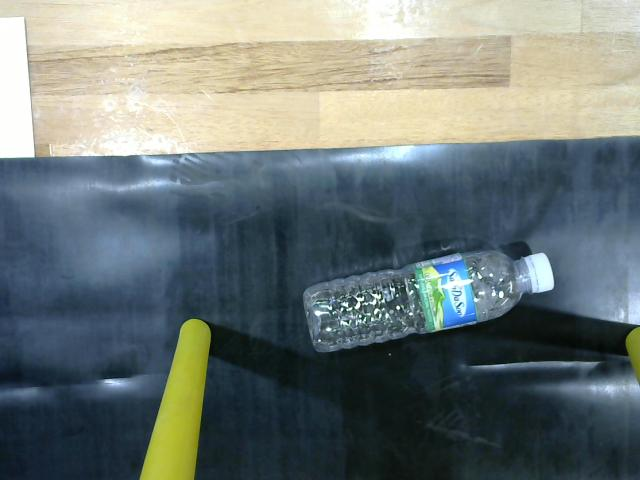bottle: (294, 239, 564, 362)
